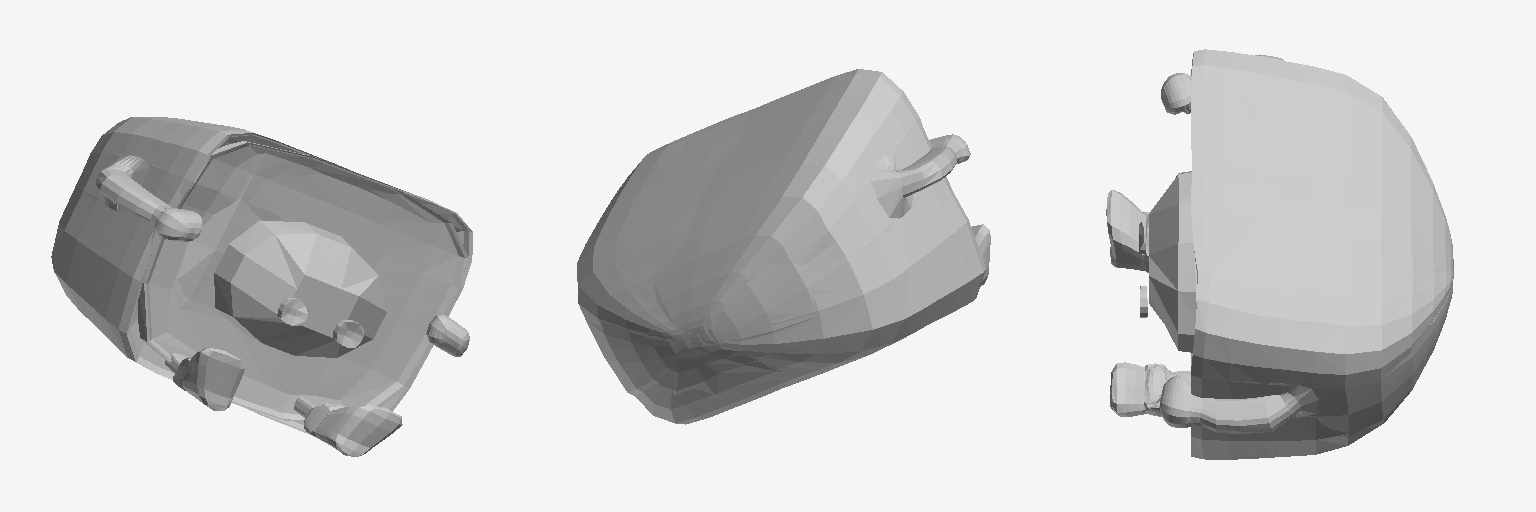
File: Pal_000006.obj
3 views of the same model, side by side, from view 1: azimuth 30°, elevation 25°; view 2: azimuth 150°, elevation 25°; view 3: azimuth 270°, elevation 25° (orthographic).
Visible parts, largest first — view 1: Cuerpo_de_aguacate_3.001_Cube.002, Hueso_Cubo.003, Ojos_Cubo.002; view 2: Cuerpo_de_aguacate_3.001_Cube.002; view 3: Cuerpo_de_aguacate_3.001_Cube.002, Hueso_Cubo.003.
Part boxes in pixels (x1,y1,x2,y2): Cuerpo_de_aguacate_3.001_Cube.002: (51,117,472,456); Hueso_Cubo.003: (214,221,386,357); Ojos_Cubo.002: (277,298,364,347); Cuerpo_de_aguacate_3.001_Cube.002: (577,69,990,424); Cuerpo_de_aguacate_3.001_Cube.002: (1106,49,1453,459); Hueso_Cubo.003: (1149,171,1196,352).
Size of the model in its own units: 1.18 by 1.09 by 1.01.